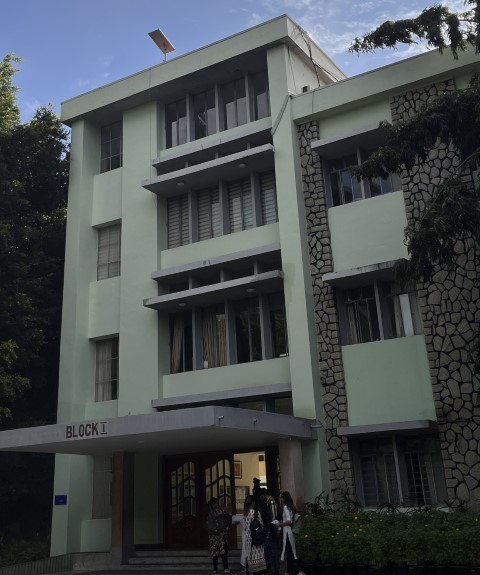Block 1: (46, 56, 480, 575)
